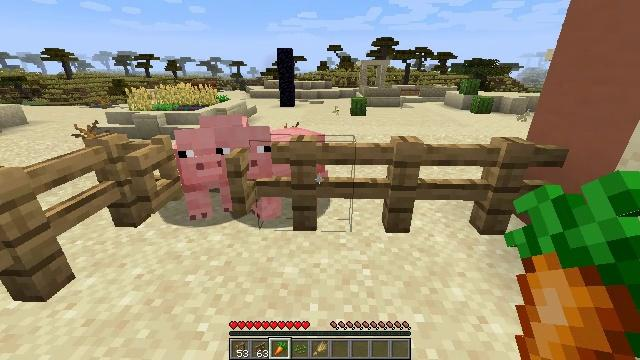pig: (257, 123, 336, 216), (213, 121, 263, 212), (183, 125, 226, 217)
